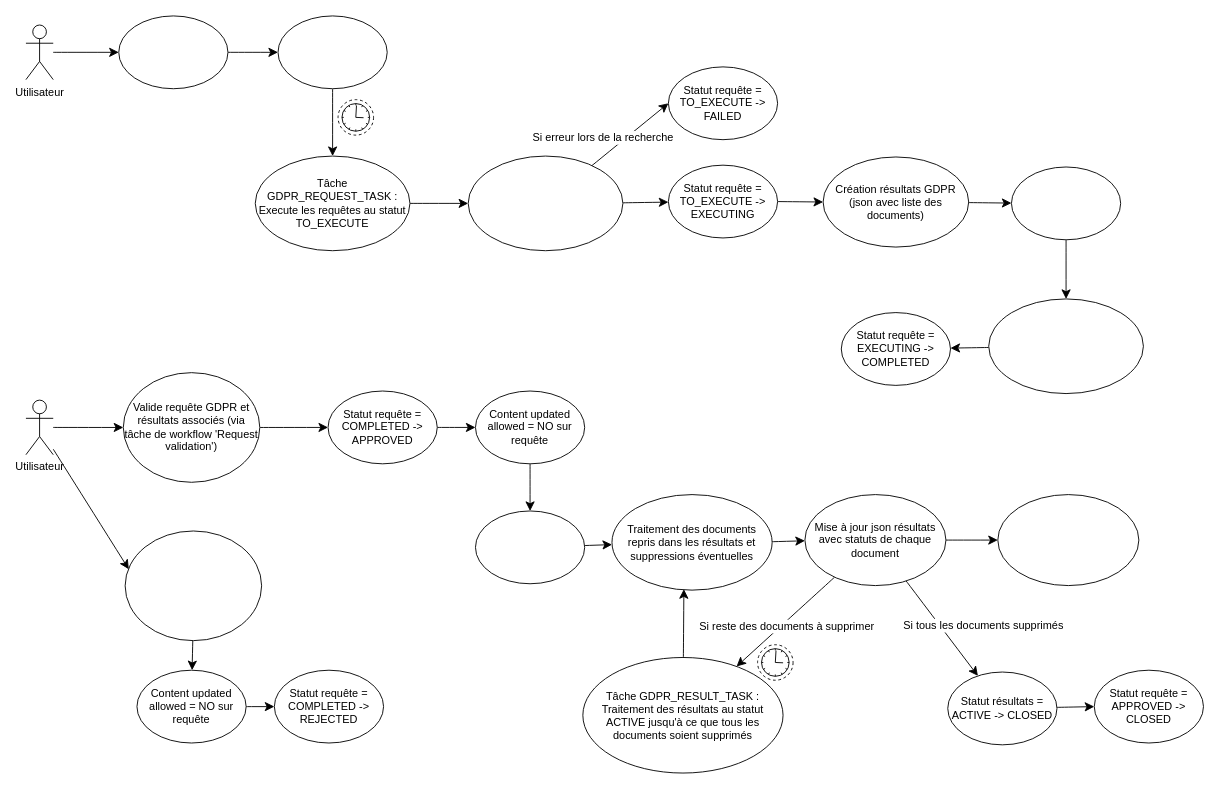
Some shapes in this 1219 by 789 pixel diagram are drawn without their labels. Here are the shapes that lost their labels. From the top down, the box of each, then its label:
(118, 15, 228, 89): Création requête GDPR (Eform)
(277, 15, 387, 89): Statut requête = TO_EXECUTE
(467, 155, 623, 251): Recherche des documents matchant la requête
(1011, 166, 1121, 240): Statut résultats = PENDING
(988, 298, 1143, 394): Lancement workflow 'Request validation' sur requête
(475, 510, 585, 584): Statut résultats = PENDING -> ACTIVE
(997, 494, 1139, 586): Génère rapport pdf (avec archivage et envoi par email)
(124, 530, 262, 641): Rejette requête GDPR et (via tâche de workflow 'Request validation')
